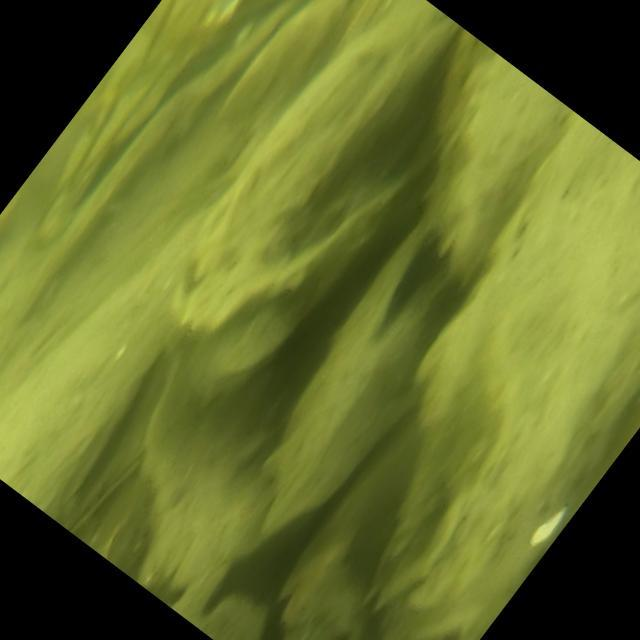Oyster- Indeterminate: (378, 121, 640, 640), (146, 353, 269, 584), (186, 300, 296, 395), (569, 381, 640, 514)
Oyster-Closed: (425, 28, 582, 282)
Oyster-Open: (263, 220, 471, 531), (0, 219, 195, 530), (216, 0, 343, 118)
